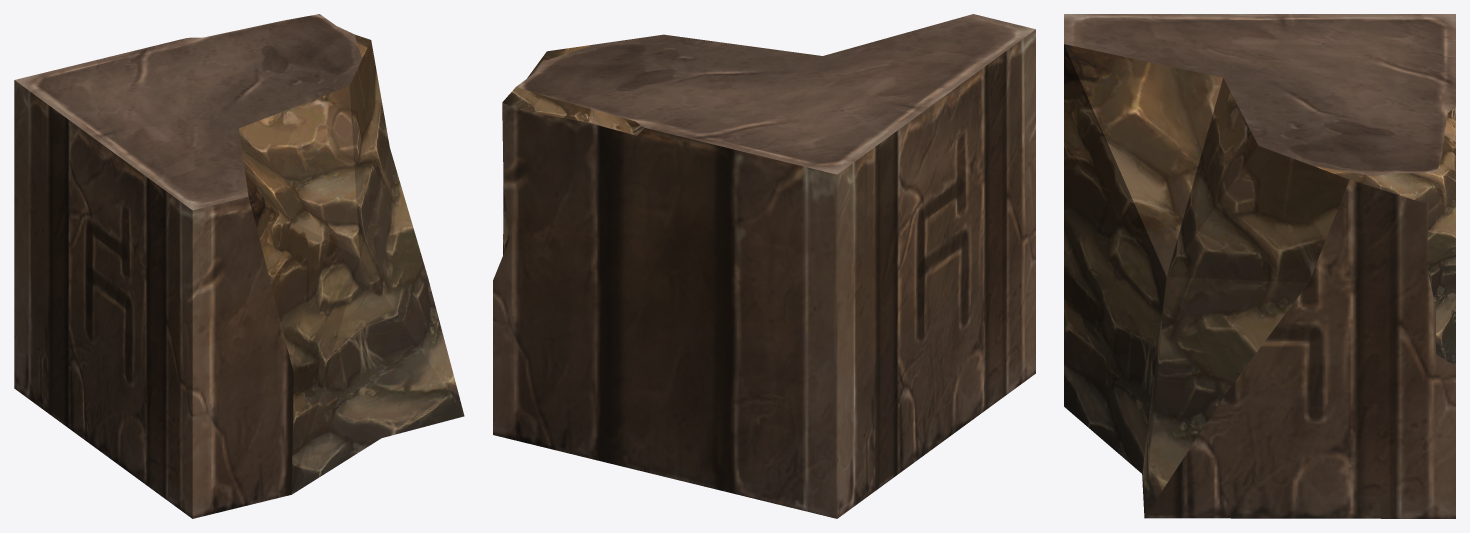
The model's file is D_shizhu007.fbx.
3 views of the same model, side by side, from view 1: azimuth 30°, elevation 25°; view 2: azimuth 150°, elevation 25°; view 3: azimuth 270°, elevation 25° (orthographic). The views are drawn at different scales.
Parts seen in each view (by area): view 1: D_shizhu007; view 2: D_shizhu007; view 3: D_shizhu007.
Boxes of the visible parts, x1=… form: D_shizhu007: x1=14, y1=14, x2=464, y2=518; D_shizhu007: x1=493, y1=14, x2=1035, y2=518; D_shizhu007: x1=1064, y1=14, x2=1455, y2=518.
Size of the model in its own units: 93.34 by 89.2 by 93.34.
